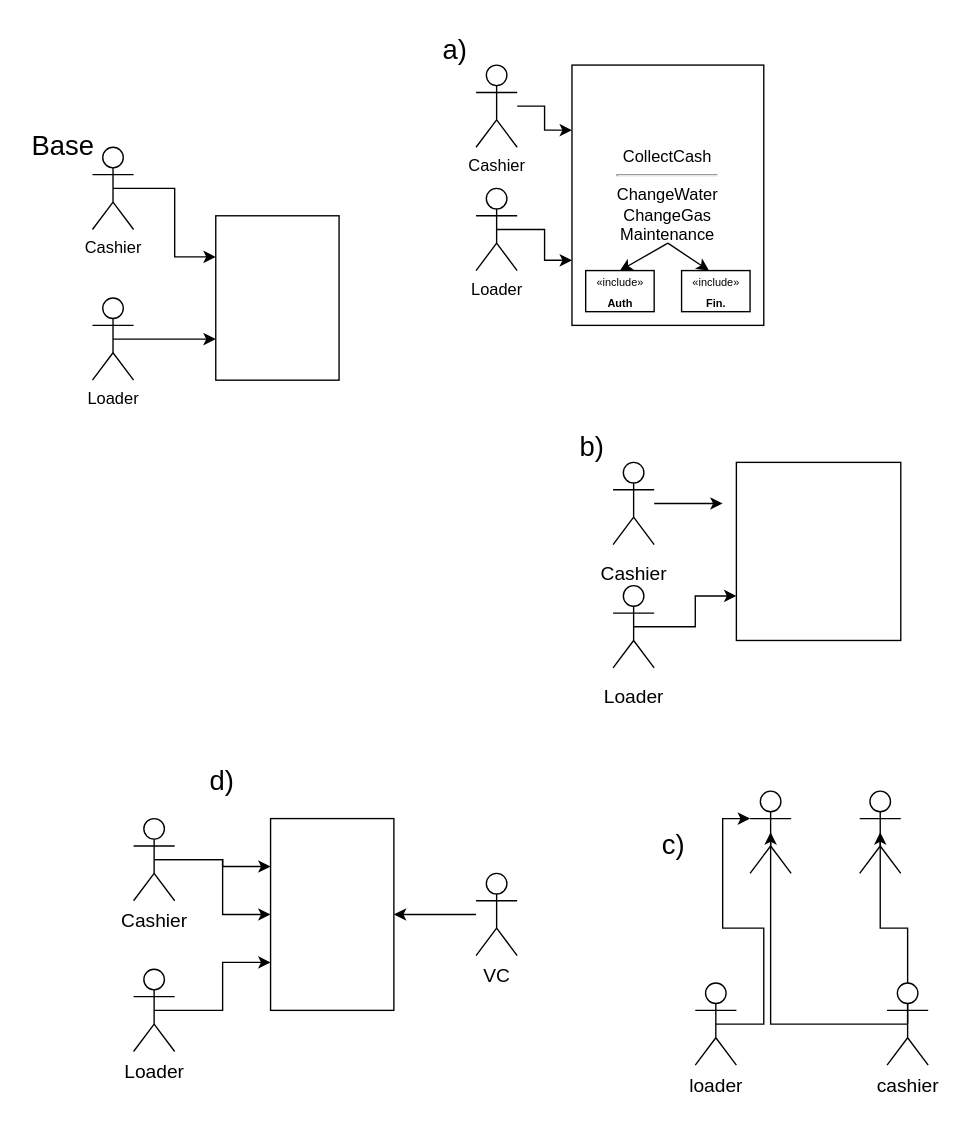
Image size: 962x1121. Some labels were removed from this diagram. Here are the shapes that lost their labels. From the top down, the centre of each, then its label:
At pixel 276 297: "CollectCash Change Water ChangeGas".
At pixel 818 550: "CollectCash ChangeWater ChangeGas LoadSyrop".
At pixel 770 831: "operator".
At pixel 879 831: "collector".
At pixel 331 913: "CollectCash Monitor ChangeWater ChangeGas".
